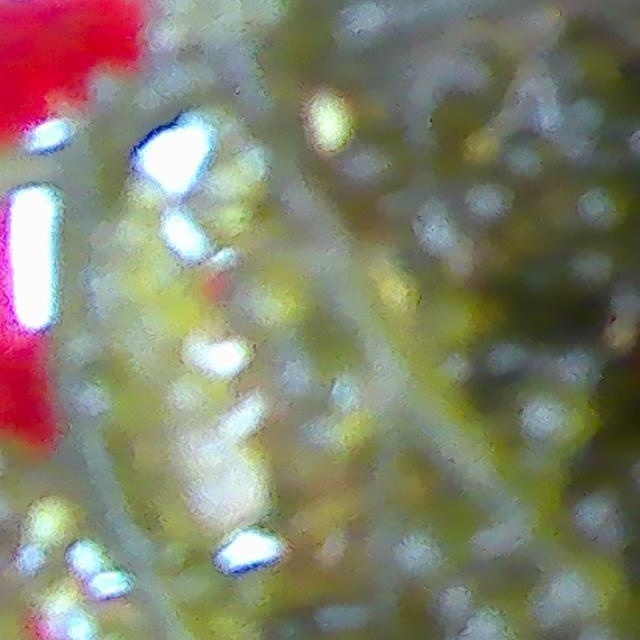SeaGrape: (547, 549, 631, 626)
